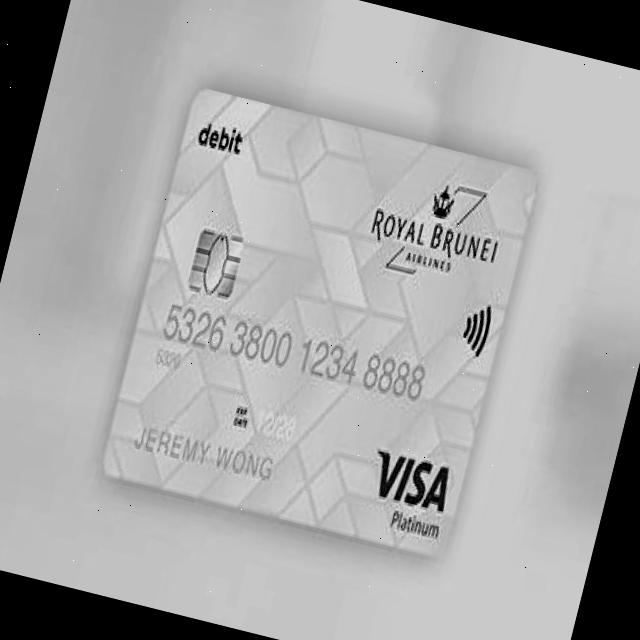card: (82, 75, 550, 570)
